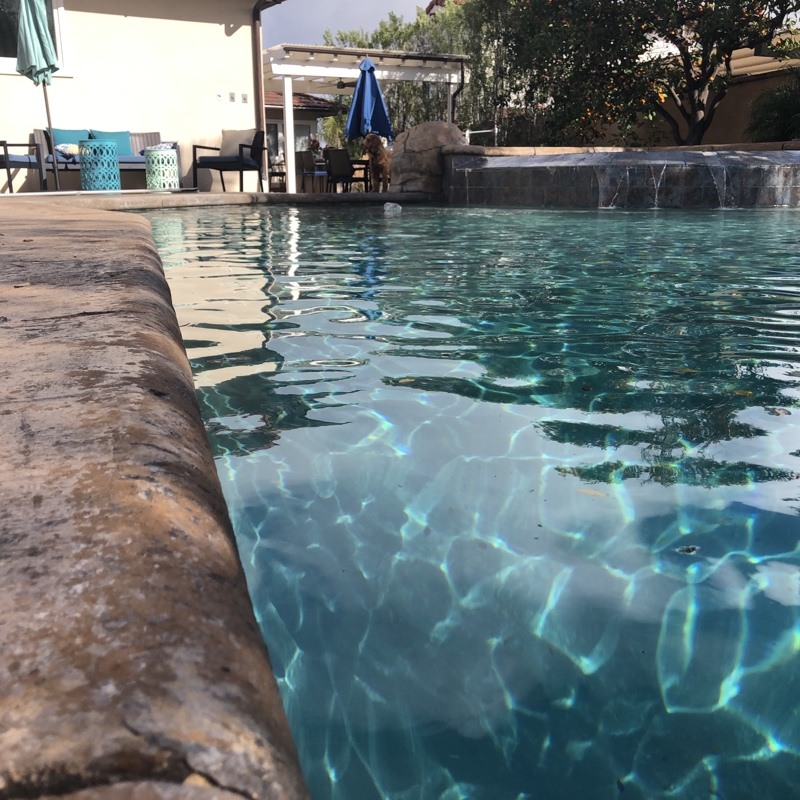Plastic Bottle: (380, 200, 402, 220)
